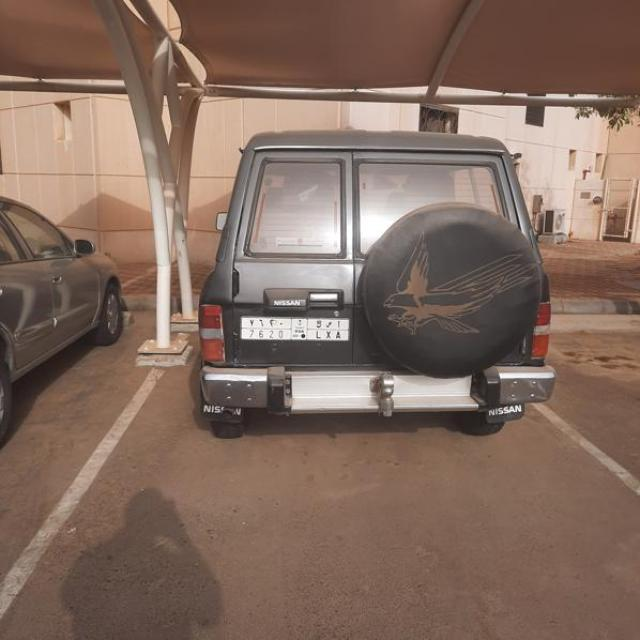license_plate: (240, 314, 351, 342)
